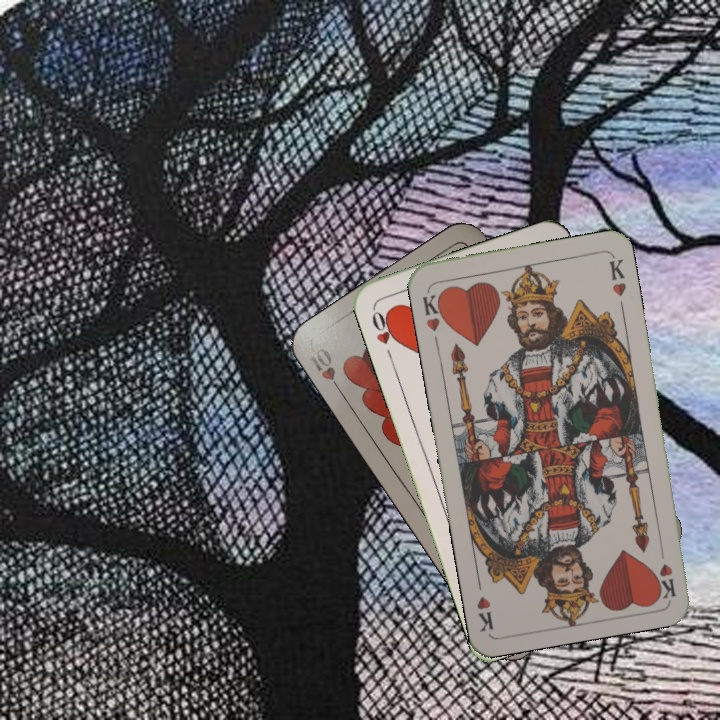H10: (305, 343, 346, 398)
HK: (654, 541, 678, 600), (419, 287, 449, 334)
HO: (367, 305, 401, 362)
